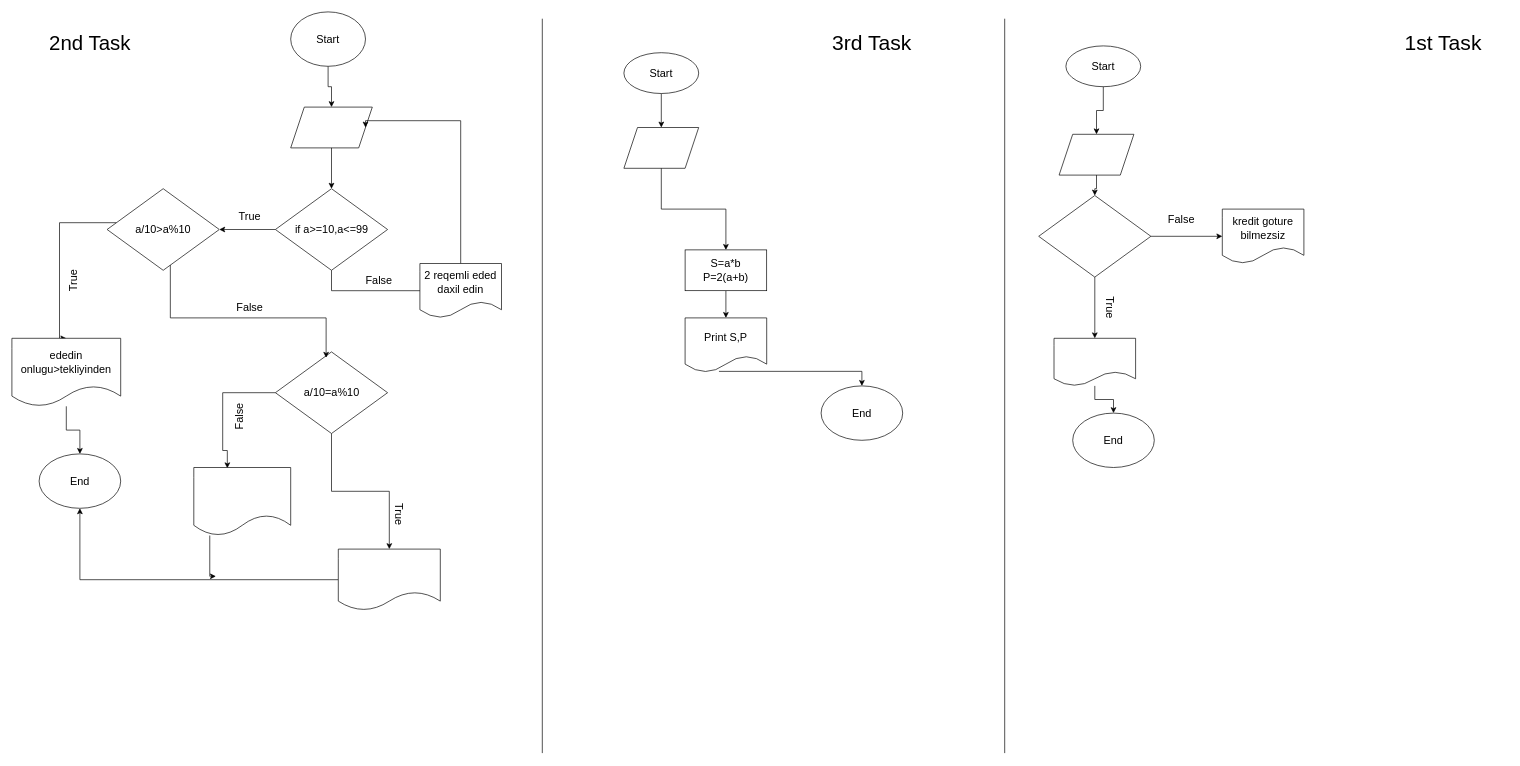
This 1520x766 diagram has some shape labels left out. The centre of each missing label's shape, as x and y in pixels:
"ededlin onluqu<tekliyinden" belongs at point 242,501.
"ededlin onluqu=tekliyine" belongs at point 389,579.
"int a" belongs at point 331,127.
"int a,b,P,S" belongs at point 661,147.
"int m,k" belongs at point 1096,154.
"k<m*12*0,6" belongs at point 1094,236.
"kredit goture bilersiz" belongs at point 1094,362.
